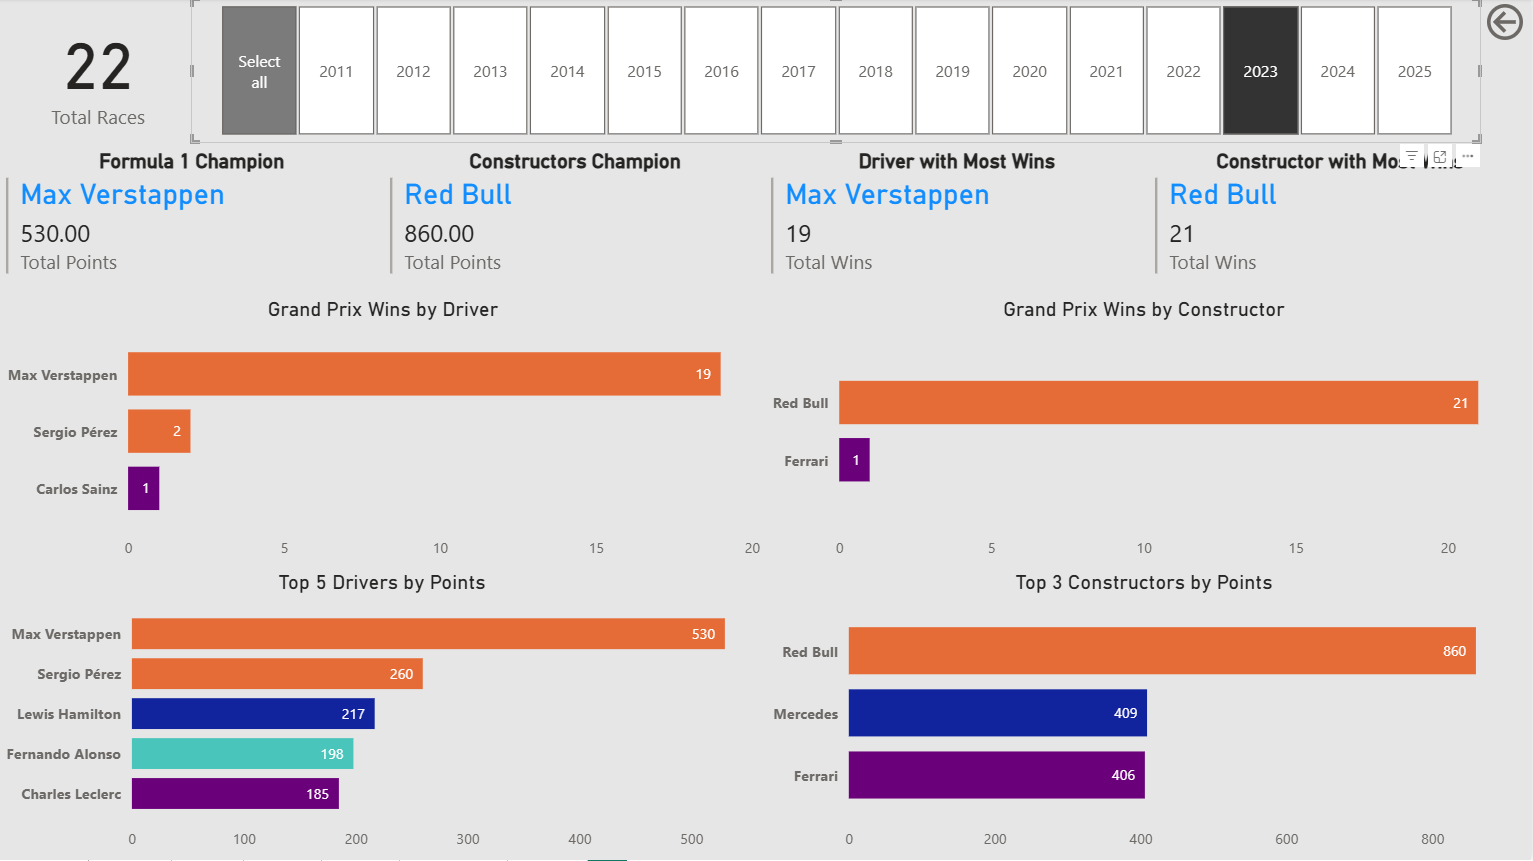

Layout of this report page (visuals, bound fields, positions):
{"tool":"powerbi","page":{"name":"Races","canvas":[1280,720],"ordinal":1},"visuals":[{"type":"slicer","fields":{"Values":["Seasons.year"]},"box":[160.3,0,1077.4,121.3],"z":0},{"type":"card","fields":{"Values":["CountNonNull(Races.raceId)"]},"box":[0,0,165.7,121.4],"z":1000},{"type":"barChart","title":"Top 5 Drivers by Points","fields":{"Category":["Drivers.DriverName"],"Y":["Sum(Results.points)"],"Series":["Constructors.ConstructorName"]},"box":[0,477.7,640,242.8],"z":2000},{"type":"barChart","title":"Top 3 Constructors by Points","fields":{"Category":["Constructors.ConstructorName"],"Y":["Sum(ConstructorResults.points)"],"Series":["Constructors.ConstructorName"]},"box":[640,477.7,633.2,242.8],"z":3000},{"type":"multiRowCard","title":"Formula 1 Champion","fields":{"Values":["_Measures.Top Driver Name with Most Points","_Measures.Top Driver Points with Most Points"]},"box":[1.1,121.3,320.6,128],"z":4000},{"type":"multiRowCard","title":"Constructors Champion","fields":{"Values":["_Measures.Top Constructor Name with Most Points","_Measures.Top Constructor All Time Points"]},"box":[321.7,121.3,319.4,128],"z":5000},{"type":"multiRowCard","title":"Driver with Most Wins","fields":{"Values":["_Measures.Top Driver Name with Most Wins","_Measures.Top Driver #Wins with Most Wins"]},"box":[640,121.3,320.6,128],"z":6000},{"type":"multiRowCard","title":"Constructor with Most Wins","fields":{"Values":["_Measures.Top Constructor name with Most Wins","_Measures.Top Constructor #Wins with Most Wins"]},"box":[960.6,121.3,319.4,128],"z":7000},{"type":"barChart","title":"Grand Prix Wins by Driver","fields":{"Category":["Drivers.DriverName"],"Y":["_Measures.Total Grand Prix Wins"],"Series":["Constructors.ConstructorName"]},"box":[1.1,249.6,640,228.1],"z":8000},{"type":"barChart","title":"Grand Prix Wins by Constructor","fields":{"Category":["Constructors.ConstructorName"],"Y":["_Measures.Total Grand Prix Wins"],"Series":["Constructors.ConstructorName"]},"box":[640,249.6,633.2,228.1],"z":9000},{"type":"actionButton","box":[1237.7,0,42.3,40.1],"z":10000}]}

Visuals, with their boxes in screenshot pixels (x1, y1, x2, y2), scaled from the page's 1280x720 canvas onto the 1533x861 screenshot:
slicer - Seasons.year: 192/0/1482/145
card - CountNonNull(Races.raceId): 0/0/198/145
"Top 5 Drivers by Points" barChart: 0/571/766/860
"Top 3 Constructors by Points" barChart: 766/571/1525/860
"Formula 1 Champion" multiRowCard: 1/145/385/298
"Constructors Champion" multiRowCard: 385/145/768/298
"Driver with Most Wins" multiRowCard: 766/145/1150/298
"Constructor with Most Wins" multiRowCard: 1150/145/1532/298
"Grand Prix Wins by Driver" barChart: 1/298/768/571
"Grand Prix Wins by Constructor" barChart: 766/298/1525/571
actionButton: 1482/0/1532/48
